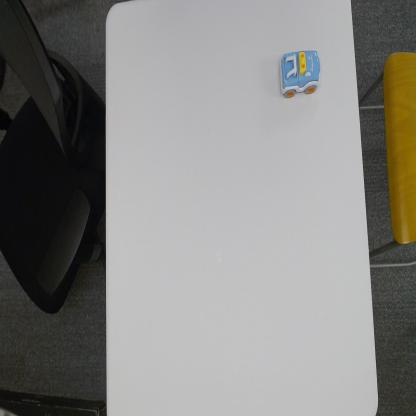Car: (278, 46, 322, 100)
